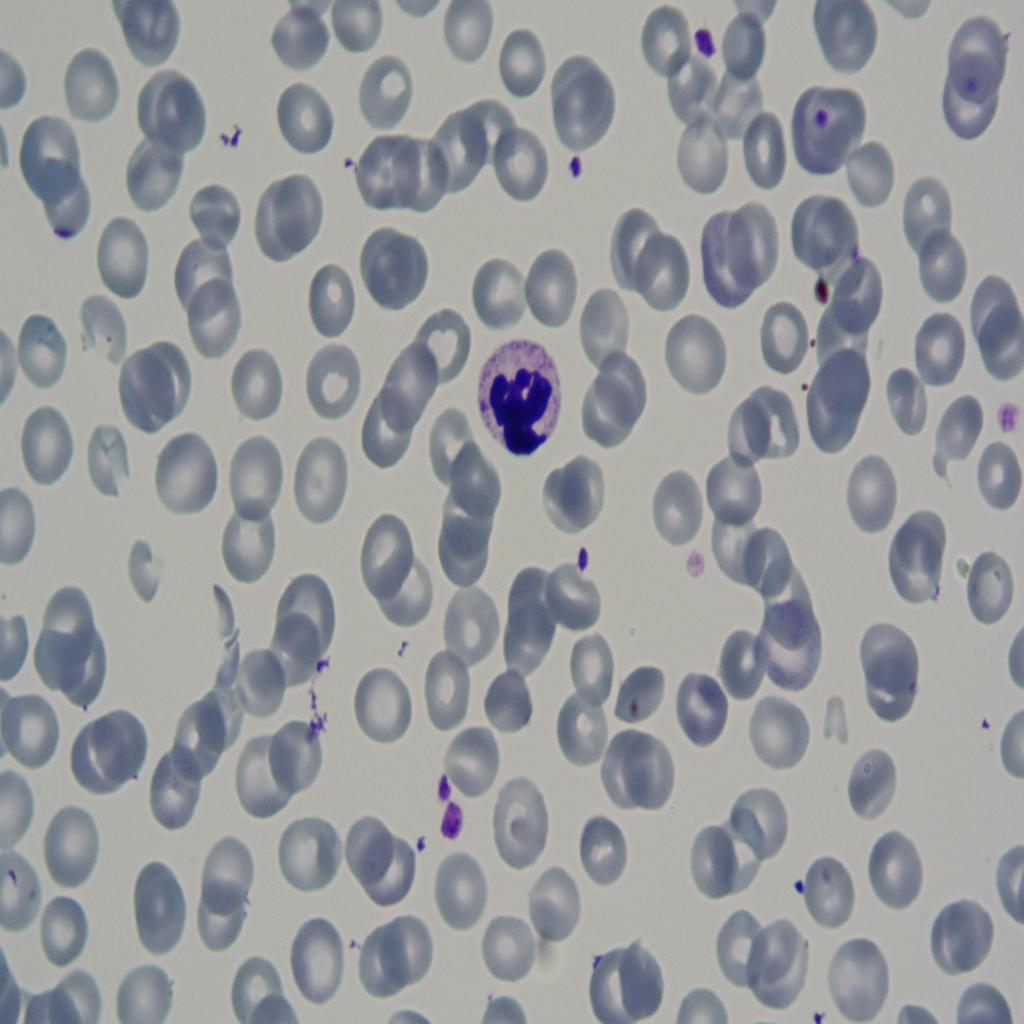Neutrofil: (475, 316, 565, 462)
Platelet: (680, 538, 716, 590), (686, 17, 720, 69), (996, 385, 1024, 444), (554, 131, 585, 181), (788, 859, 818, 905), (435, 798, 470, 837), (811, 99, 839, 147), (567, 535, 593, 572), (429, 768, 454, 800), (808, 998, 824, 1024)
